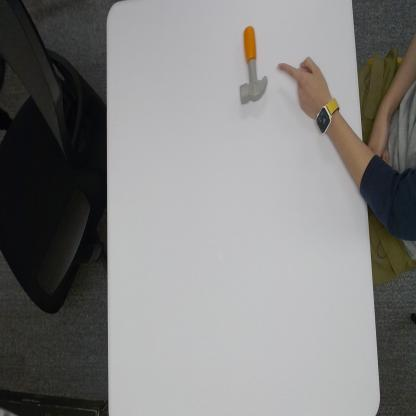Arm: (332, 112, 364, 193)
Hammer: (238, 24, 268, 107)
Hand: (278, 53, 322, 111)
